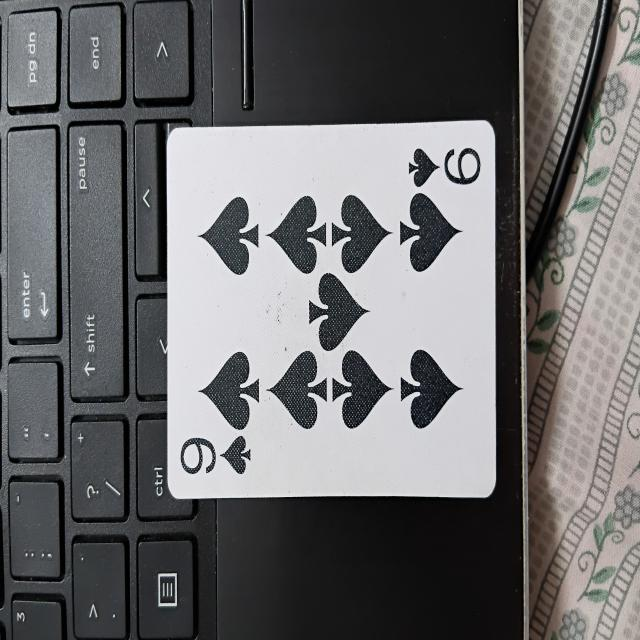9S: (169, 125, 506, 506)
